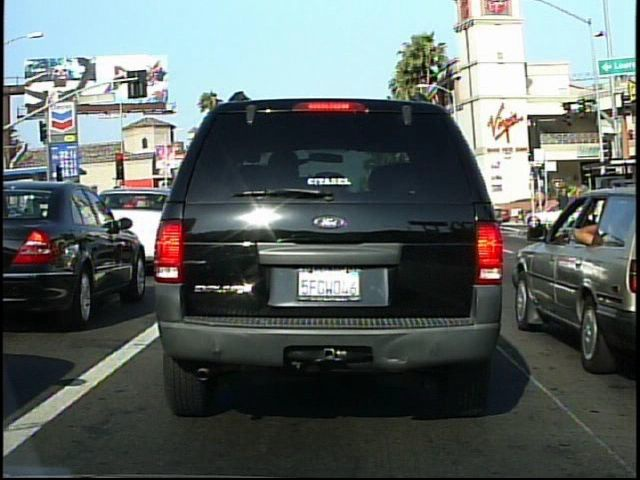person: (588, 183, 616, 239), (553, 181, 575, 237)
